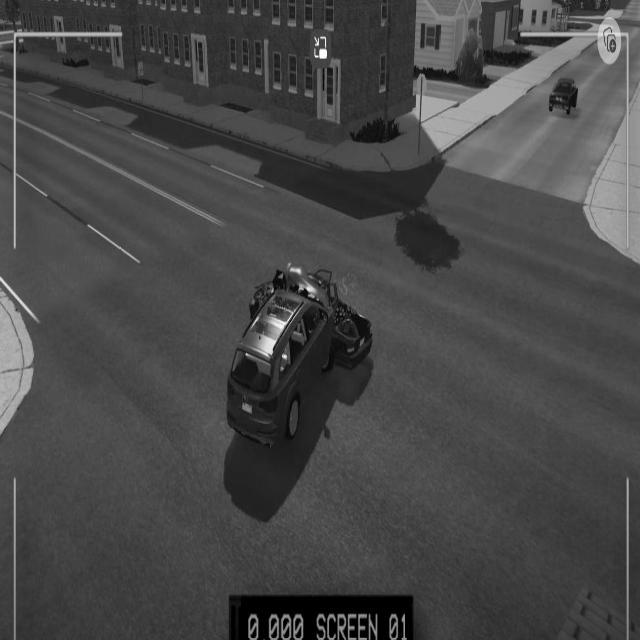accident: (225, 257, 376, 459)
vehicle: (547, 73, 579, 118)
